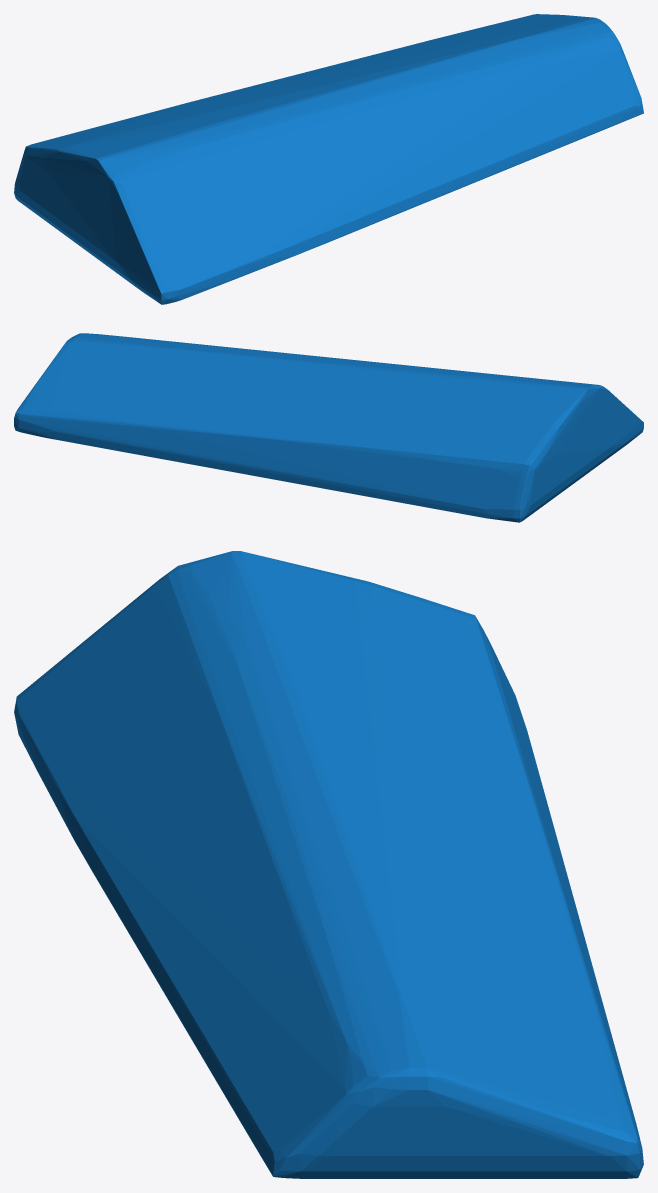
File: left-elbow-0_part_29.obj
The picture shows the model from 3 angles, top to bottom: view 1: azimuth 30°, elevation 25°; view 2: azimuth 150°, elevation 25°; view 3: azimuth 270°, elevation 25°; orthographic projection. The views are drawn at different scales.
Size of the model in its own units: 0.0556 by 0.00929 by 0.0316.
